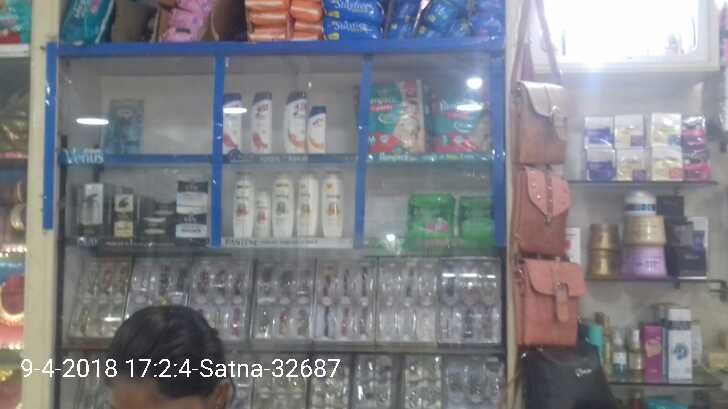venus: (107, 99, 140, 155)
